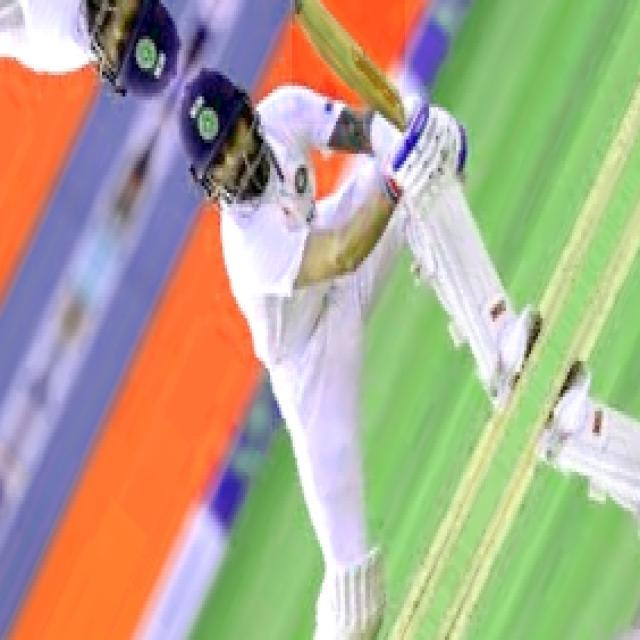bat: (291, 0, 404, 129)
